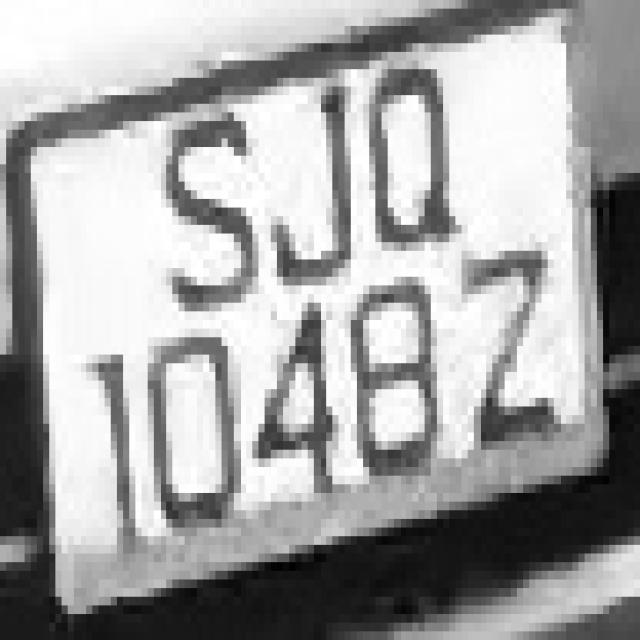0: (135, 294, 234, 536)
1: (80, 303, 154, 605)
4: (228, 286, 344, 536)
8: (332, 250, 437, 502)
J: (252, 18, 363, 312)
Q: (357, 35, 461, 294)
S: (160, 86, 265, 354)
Z: (443, 260, 566, 484)
